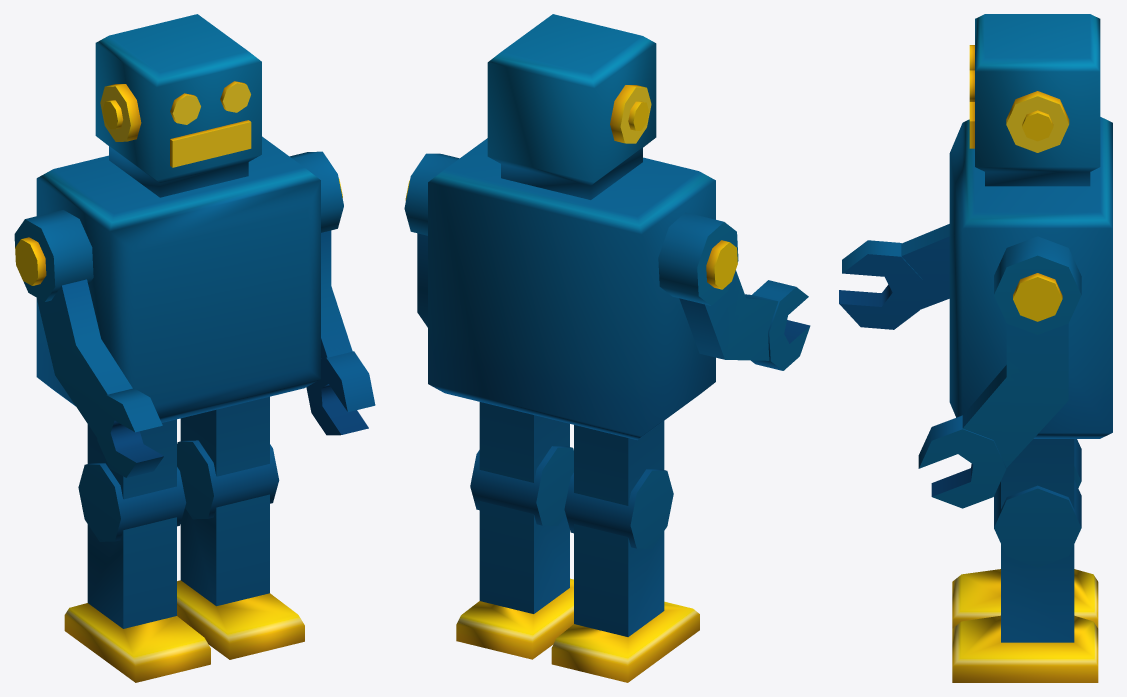
File: robot.fbx
3 renders of one model, left to right at view 1: azimuth 30°, elevation 25°; view 2: azimuth 150°, elevation 25°; view 3: azimuth 270°, elevation 25°, orthographic. The views are drawn at different scales.
Parts seen in each view (by area): view 1: robot; view 2: robot; view 3: robot.
Boxes of the visible parts, box(x1,y1,x2,y2) form: robot: box(14, 14, 375, 682); robot: box(404, 14, 810, 682); robot: box(839, 14, 1112, 682).
Bounding box in the file's own units: 11.61 × 21.45 × 8.8.
